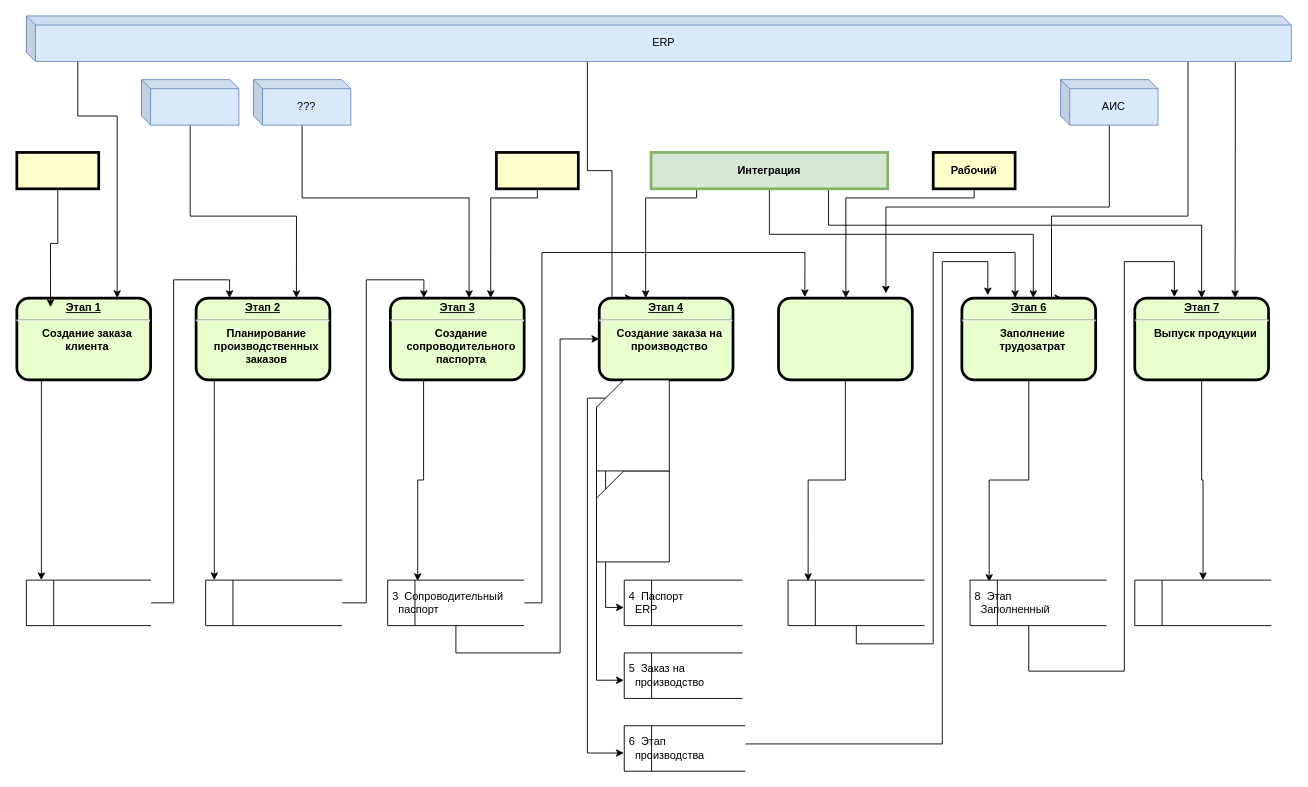
Some shapes in this 1308 by 787 pixel diagram are drawn without their labels. Here are the shapes that lost their labels. From the top down, the box of each, then its label:
(141, 79, 239, 125): Logis
(15, 151, 100, 190): Менеджер
(495, 151, 579, 190): Сотрудник ПДО
(777, 296, 913, 381): Этап 5 Фиксирование выполнения операций
(25, 579, 151, 626): 1 Заказ клиента
(205, 579, 342, 626): 2 Производственный заказ
(787, 579, 925, 626): 7 Производственная операция MES
(1134, 579, 1271, 626): 9 Передача продукции из производства
